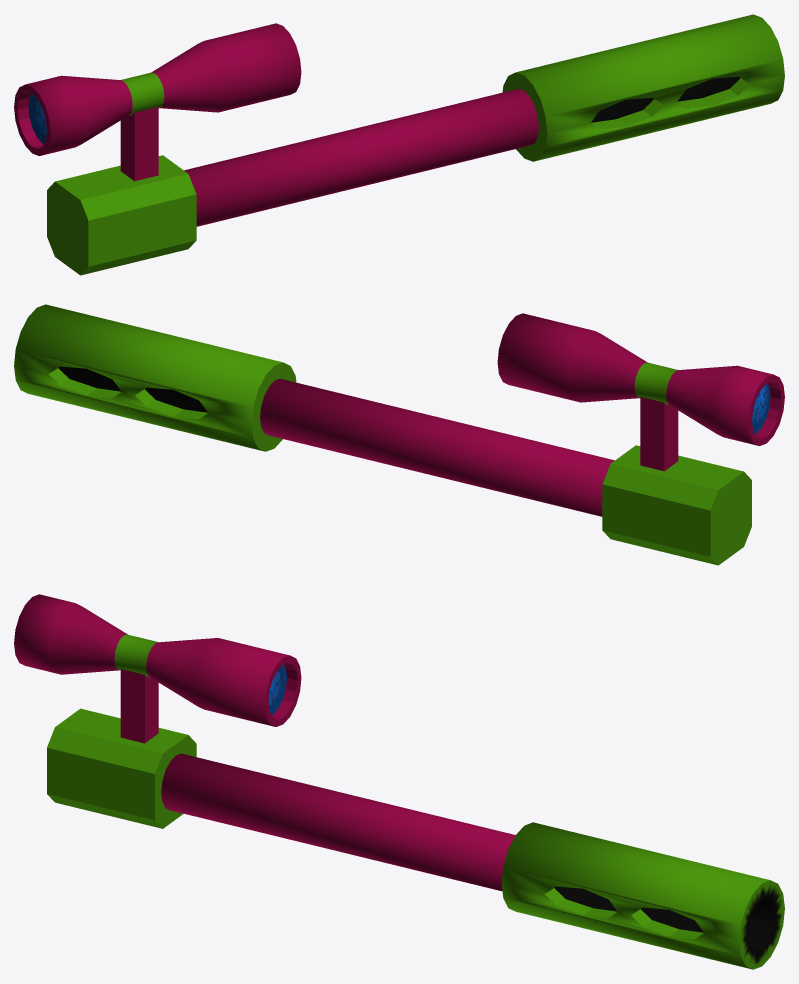
The model's file is Sniper.fbx.
3 renders of one model, top to bottom at view 1: azimuth 30°, elevation 25°; view 2: azimuth 150°, elevation 25°; view 3: azimuth 330°, elevation 25°, orthographic.
Visible parts, largest first — view 1: Cube; view 2: Cube; view 3: Cube.
Part boxes in pixels (x1,y1,x2,y2): Cube: (14, 14, 784, 275); Cube: (14, 304, 784, 565); Cube: (14, 594, 784, 969).
Size of the model in its own units: 2026 by 508 by 220.
